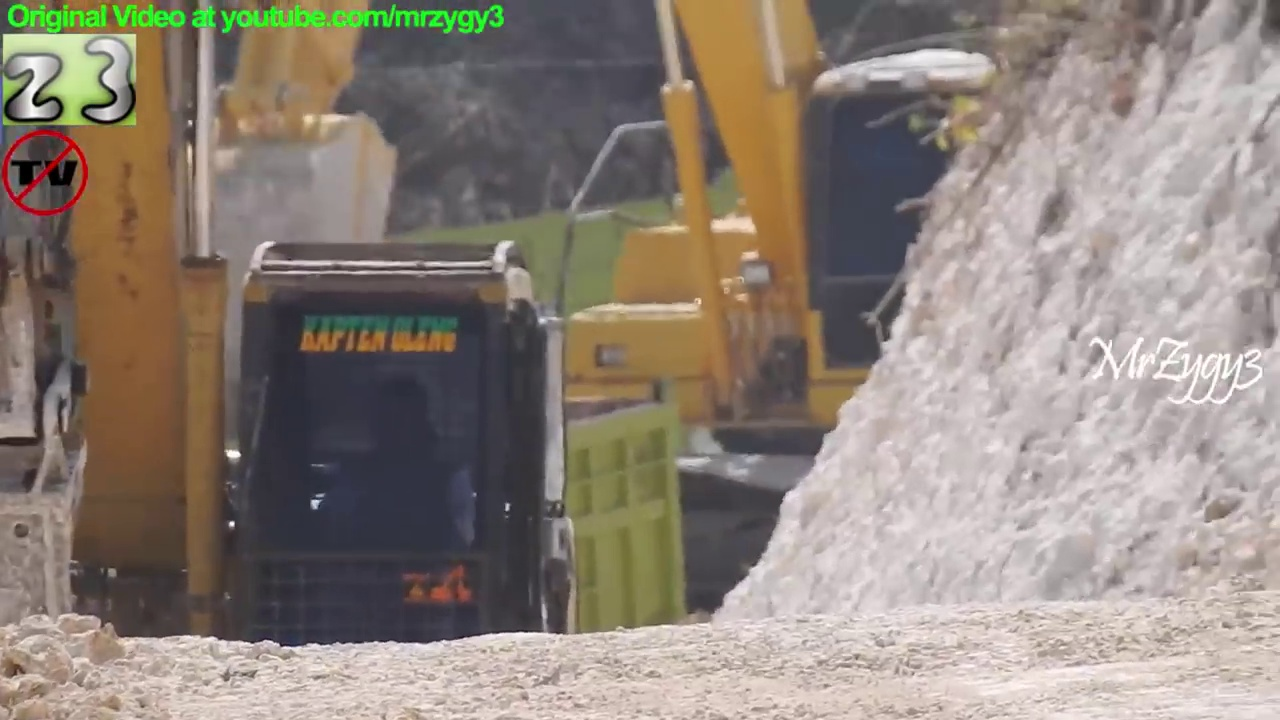excavator: (129, 1, 1107, 720), (1, 1, 603, 720)
truck: (1, 364, 699, 717), (174, 140, 792, 447)
